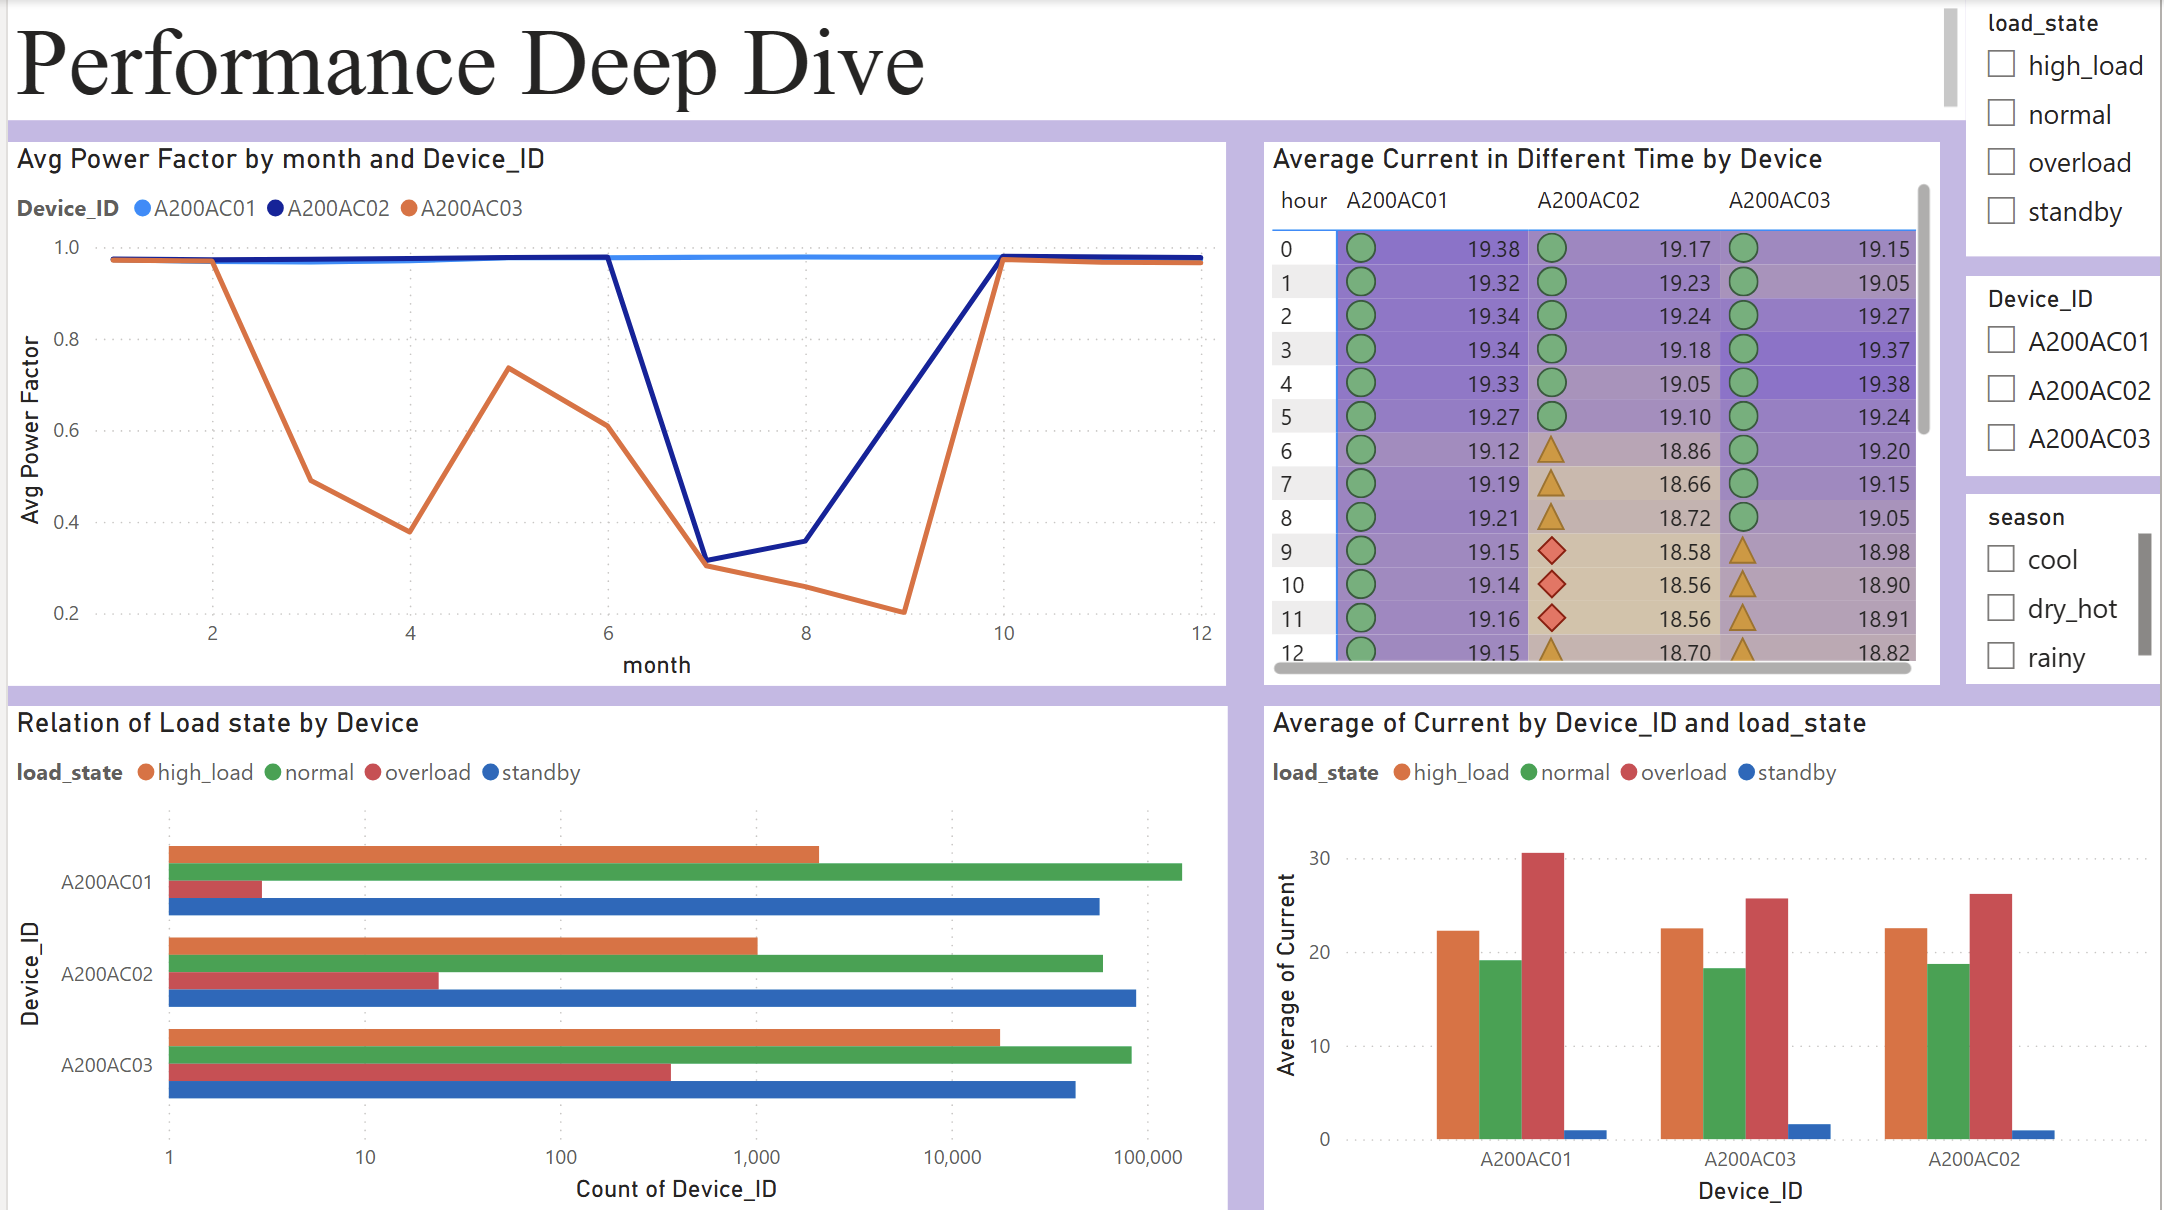

Layout of this report page (visuals, bound fields, positions):
{"tool":"powerbi","page":{"name":"Page 1","canvas":[1280,720],"ordinal":1},"visuals":[{"type":"clusteredBarChart","title":"Relation of Load state by Device","fields":{"Category":["Goa_A200_AC_unit_performance_clean.Device_ID"],"Y":["CountNonNull(Goa_A200_AC_unit_performance_clean.Device_ID)"],"Series":["Goa_A200_AC_unit_performance_clean.load_state"]},"box":[0,419.9,725.7,299.8],"z":0},{"type":"lineChart","fields":{"Y":["Measure.Avg Power Factor"],"Category":["Goa_A200_AC_unit_performance_clean.month"],"Series":["Goa_A200_AC_unit_performance_clean.Device_ID"]},"box":[0,84.5,724.5,323.6],"z":1000},{"type":"clusteredColumnChart","fields":{"Category":["Goa_A200_AC_unit_performance_clean.Device_ID"],"Y":["Avg(Goa_A200_AC_unit_performance_clean.Current)"],"Series":["Goa_A200_AC_unit_performance_clean.load_state"]},"box":[747.1,419.9,534.1,301],"z":2000},{"type":"pivotTable","title":"Average Current in Different Time by Device","fields":{"Rows":["Goa_A200_AC_unit_performance_clean.hour"],"Columns":["Goa_A200_AC_unit_performance_clean.Device_ID"],"Values":["Measure.Avg Current"]},"box":[747.1,84.5,402.1,322.4],"z":3000},{"type":"textbox","box":[0,0,1164.6,71.4],"z":3001},{"type":"slicer","fields":{"Values":["Goa_A200_AC_unit_performance_clean.load_state"]},"box":[1164.6,0,115.4,152.3],"z":3002},{"type":"slicer","fields":{"Values":["Goa_A200_AC_unit_performance_clean.Device_ID"]},"box":[1164.6,164.2,115.4,119],"z":3003},{"type":"slicer","fields":{"Values":["Goa_A200_AC_unit_performance_clean.season"]},"box":[1164.6,293.8,115.4,113],"z":3004}]}

Visuals, with their boxes in screenshot pixels (x1, y1, x2, y2), scaled from the page's 1280x720 canvas onto the 2164x1210 screenshot:
"Relation of Load state by Device" clusteredBarChart: [0, 706, 1227, 1209]
lineChart - Measure.Avg Power Factor x Goa_A200_AC_unit_performance_clean.month: [0, 142, 1225, 686]
clusteredColumnChart - Goa_A200_AC_unit_performance_clean.Device_ID x Avg(Goa_A200_AC_unit_performance_clean.Current): [1263, 706, 2163, 1209]
"Average Current in Different Time by Device" pivotTable: [1263, 142, 1943, 684]
textbox: [0, 0, 1969, 120]
slicer - Goa_A200_AC_unit_performance_clean.load_state: [1969, 0, 2163, 256]
slicer - Goa_A200_AC_unit_performance_clean.Device_ID: [1969, 276, 2163, 476]
slicer - Goa_A200_AC_unit_performance_clean.season: [1969, 494, 2163, 684]
